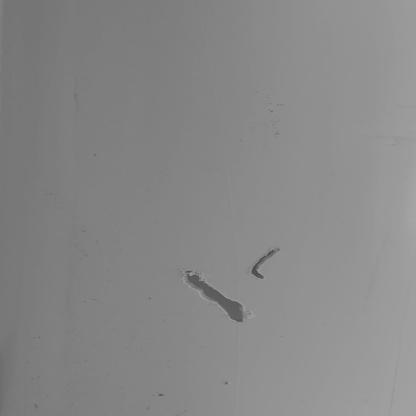fengxi: (184, 271, 249, 323), (250, 244, 282, 279)
